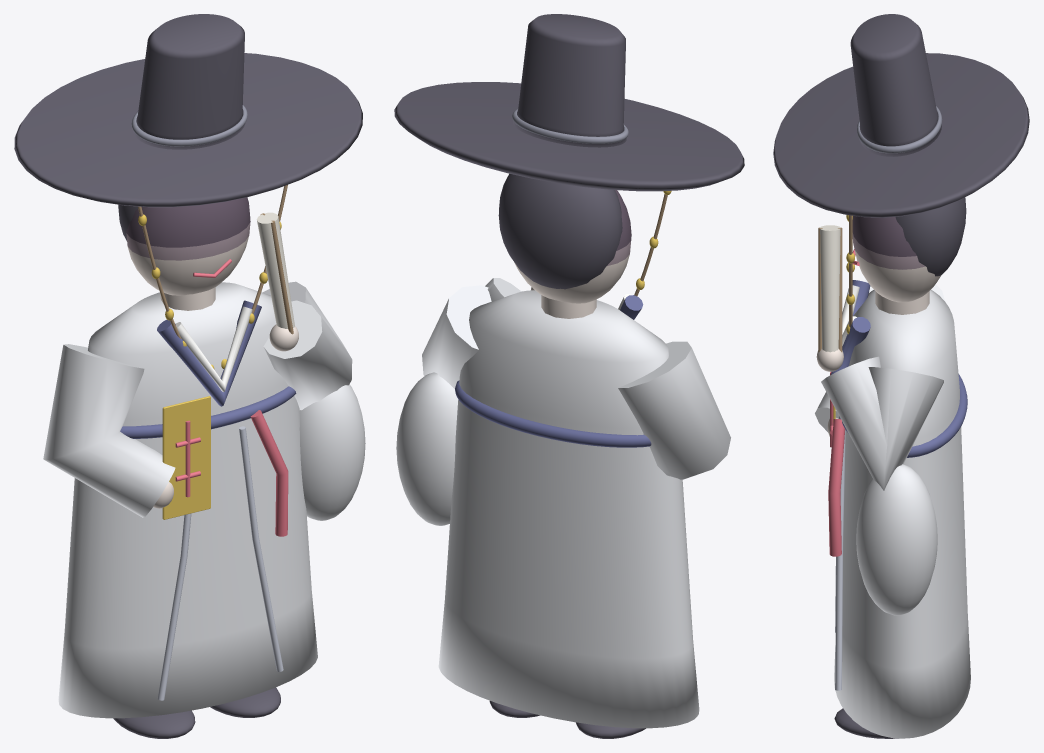
File: conch_jeonwoochi_closed_reach_0_0.glb
3 renders of one model, left to right at view 1: azimuth 30°, elevation 25°; view 2: azimuth 150°, elevation 25°; view 3: azimuth 270°, elevation 25°, orthographic.
Size of the model in its own units: 27.8 by 55.23 by 18.85.
